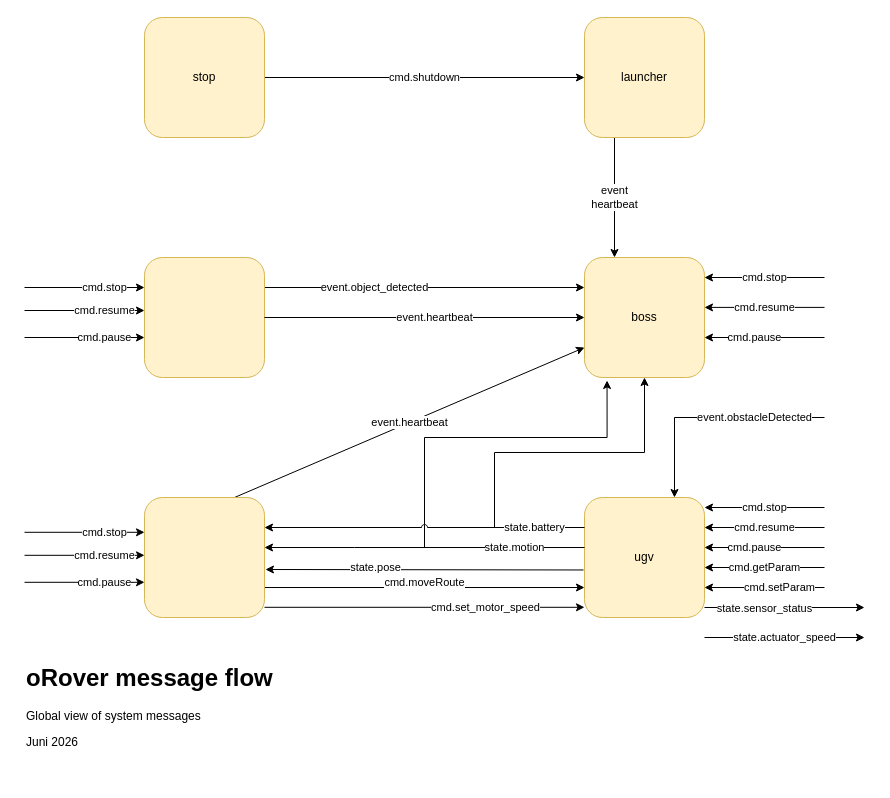
Image size: 890x798. Some labels were removed from this diagram. The shapes that lost their labels are listed below. From the top down, each one's centre as x and y in pixels, then its label:
At (x=204, y=317): "hcsr04".
At (x=204, y=557): "app".
